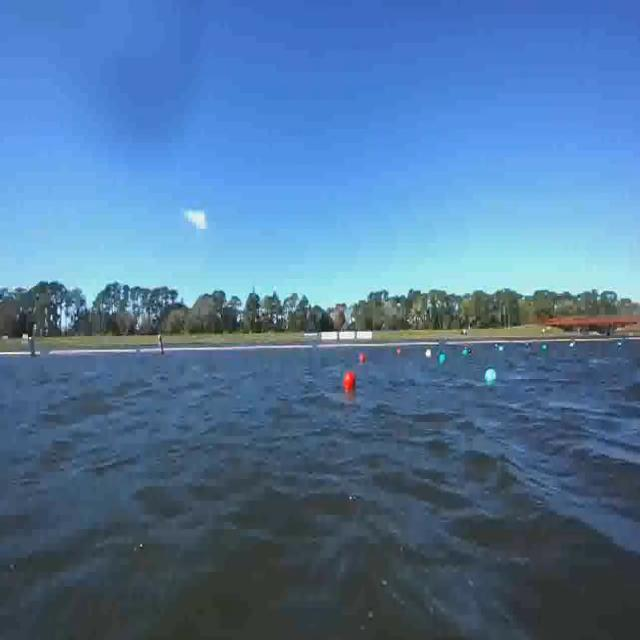green-buoy: (485, 369, 497, 385), (439, 350, 446, 364), (542, 342, 548, 352), (462, 347, 468, 355)
red-buoy: (345, 372, 357, 390), (360, 350, 366, 362), (398, 346, 402, 356)
yellow-buoy: (425, 347, 432, 358)
